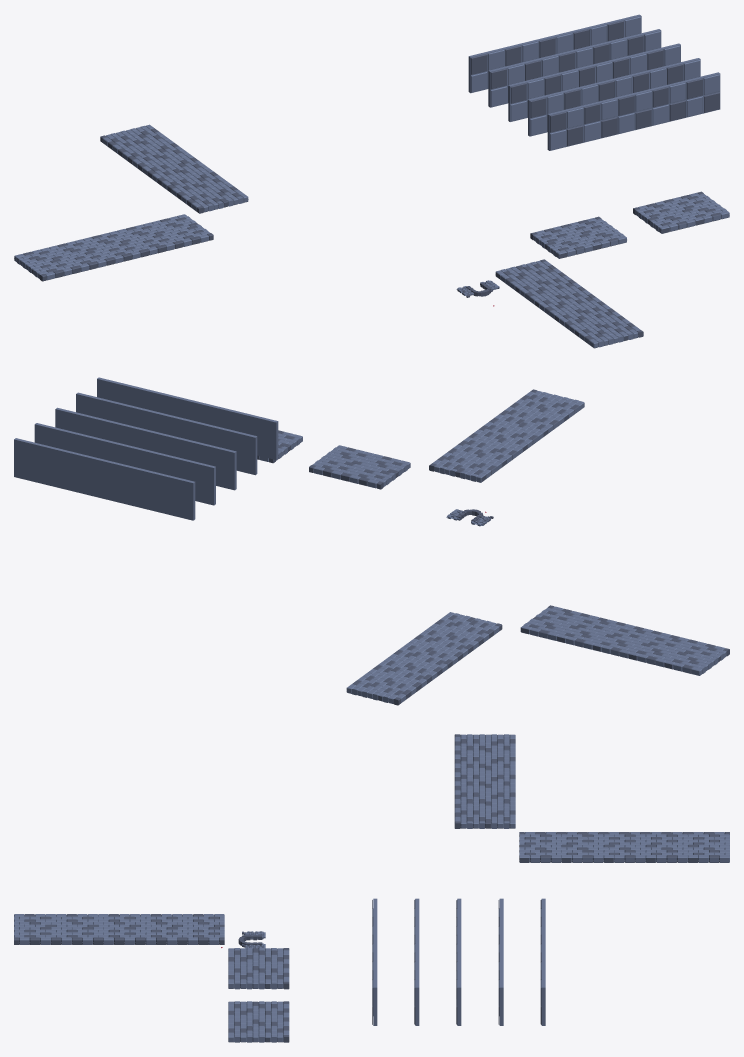
File: assembled-crypt.glb
3 views of the same model, one above another, from view 1: azimuth 30°, elevation 25°; view 2: azimuth 150°, elevation 25°; view 3: azimuth 270°, elevation 25° (orthographic). The views are drawn at different scales.
Parts seen in each view (by area): view 1: brick wall_grey_0.004, brick wall_grey_0.001, brick wall_grey_0.012, brick wall_grey_0.003, brick wall_grey_0.002, brick wall_grey_0.016, brick wall_grey_0.005, floor.001_grey_0.001, brick wall_grey_0.006, brick wall_grey_0.017, brick wall_grey_0.009, brick wall_grey_0.013 (+21 smaller); view 2: floor.001_grey_0.005, floor.001_grey_0.010, floor.001_grey_0.015, floor.001_grey_0.025, floor.001_grey_0.020, floor.001_grey_0.001, floor.001_grey_0.002, floor.001_grey_0.003, floor.001_grey_0.004, brick wall_grey_0.019, brick wall_grey_0.018, brick wall_grey_0.002 (+30 smaller); view 3: brick wall_grey_0.016, brick wall_grey_0.005, brick wall_grey_0.017, brick wall_grey_0.003, brick wall_grey_0.014, brick wall_grey_0.010, brick wall_grey_0.007, brick wall_grey_0.018, brick wall_grey_0.019, brick wall_grey_0.015, brick wall_grey_0.008, brick wall_grey_0.011 (+7 smaller).
Part boxes in pixels (<box>): brick wall_grey_0.004: <box>574,318,640,348</box>; brick wall_grey_0.001: <box>533,226,592,258</box>; brick wall_grey_0.012: <box>636,201,695,233</box>; brick wall_grey_0.003: <box>182,182,248,212</box>; brick wall_grey_0.002: <box>14,247,73,280</box>; brick wall_grey_0.016: <box>670,192,729,225</box>; brick wall_grey_0.005: <box>568,218,626,250</box>; floor.001_grey_0.001: <box>547,105,583,150</box>; brick wall_grey_0.006: <box>48,239,107,271</box>; brick wall_grey_0.017: <box>151,214,209,246</box>; brick wall_grey_0.009: <box>83,231,141,263</box>; brick wall_grey_0.013: <box>117,222,175,255</box>; floor.001_grey_0.005: <box>157,473,195,520</box>; floor.001_grey_0.010: <box>121,464,158,511</box>; floor.001_grey_0.015: <box>85,455,122,502</box>; floor.001_grey_0.025: <box>14,438,51,485</box>; floor.001_grey_0.020: <box>50,447,87,494</box>; floor.001_grey_0.001: <box>240,412,278,459</box>; floor.001_grey_0.002: <box>219,427,257,475</box>; floor.001_grey_0.003: <box>199,443,236,490</box>; floor.001_grey_0.004: <box>178,458,215,505</box>; brick wall_grey_0.019: <box>432,451,501,482</box>; brick wall_grey_0.018: <box>346,672,416,703</box>; brick wall_grey_0.002: <box>664,641,726,675</box>; brick wall_grey_0.016: <box>228,1019,289,1042</box>; brick wall_grey_0.005: <box>228,965,289,989</box>; brick wall_grey_0.017: <box>454,805,515,828</box>; brick wall_grey_0.003: <box>519,832,561,862</box>; brick wall_grey_0.014: <box>645,832,687,862</box>; brick wall_grey_0.010: <box>603,832,645,862</box>; brick wall_grey_0.007: <box>561,832,603,862</box>; brick wall_grey_0.018: <box>688,832,729,862</box>; brick wall_grey_0.019: <box>182,914,224,944</box>; brick wall_grey_0.015: <box>140,914,182,944</box>; brick wall_grey_0.008: <box>56,914,98,944</box>; brick wall_grey_0.011: <box>98,914,140,944</box>.
Bounding box in the file's own units: 37.42 × 6.02 × 34.
